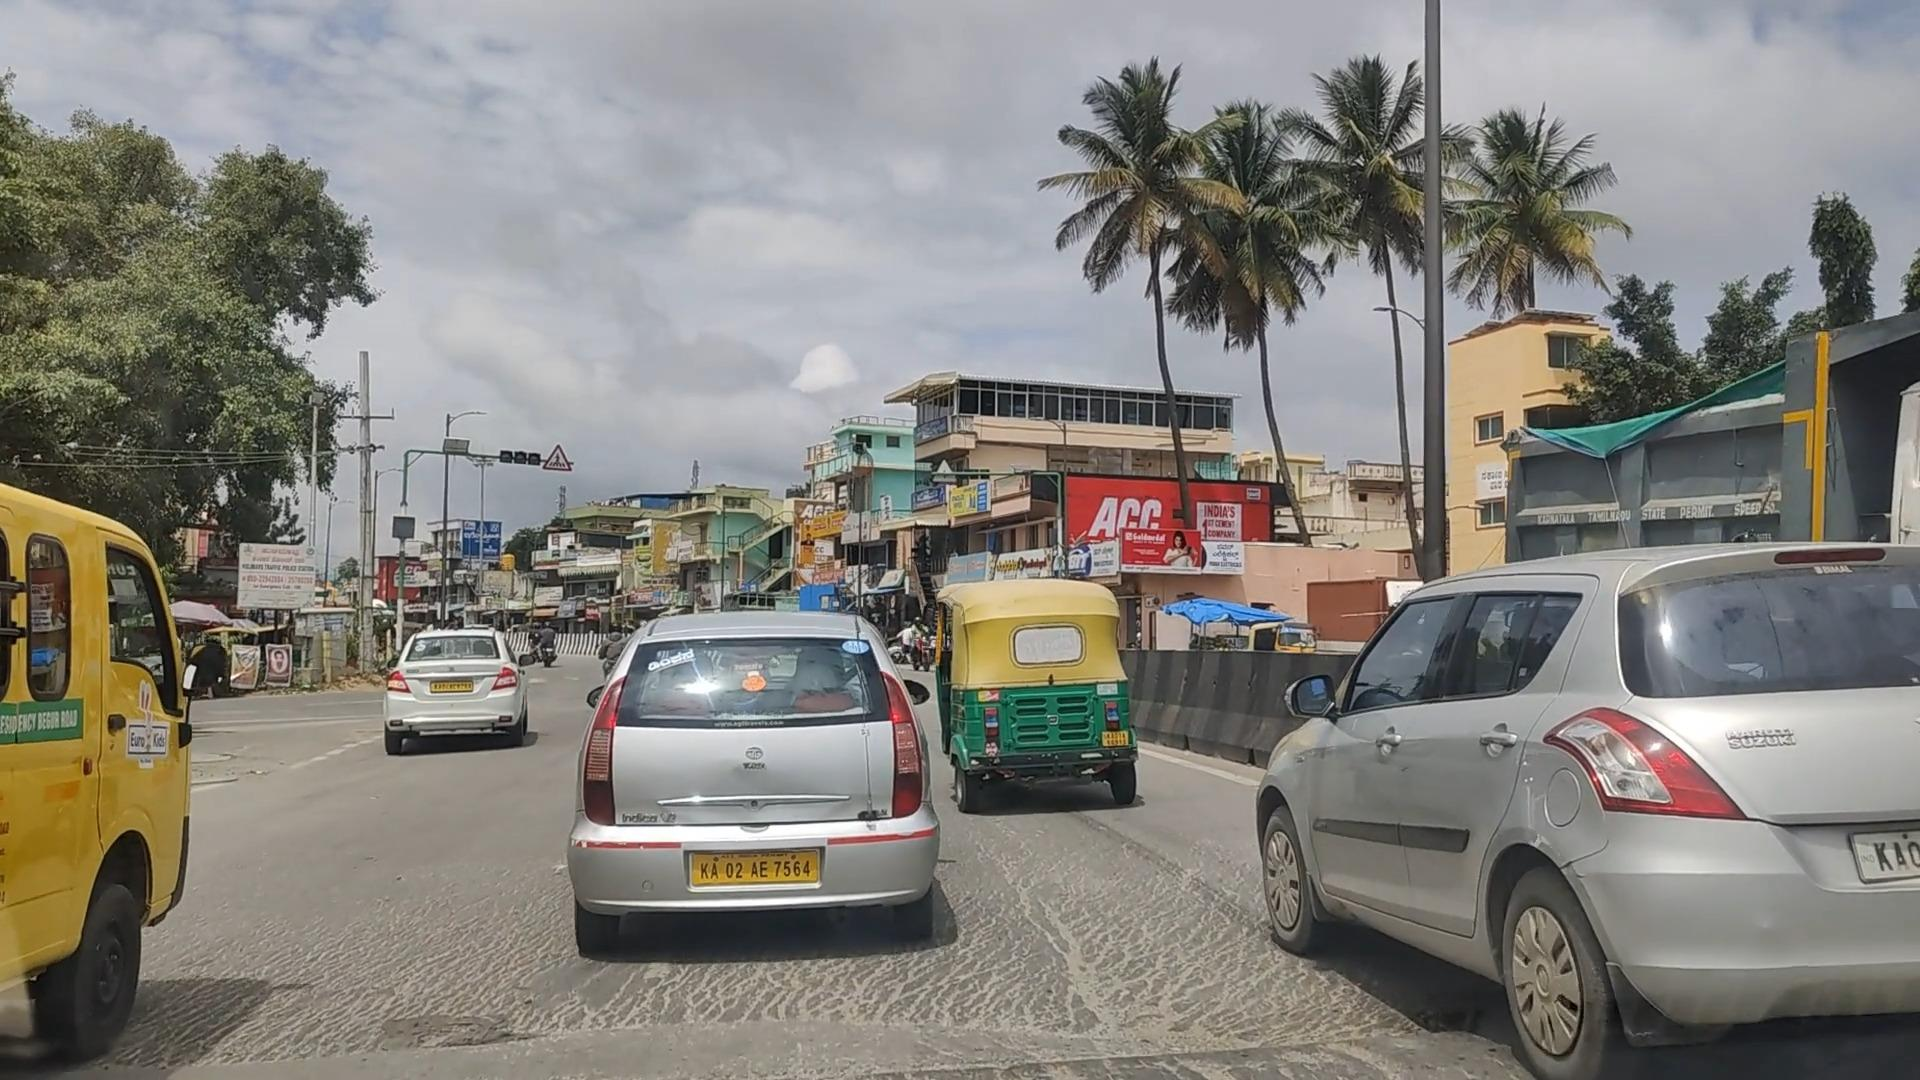LMV: (1217, 533, 1920, 1073), (535, 605, 973, 1029), (0, 402, 249, 1080), (930, 578, 1158, 837), (367, 613, 537, 769)
